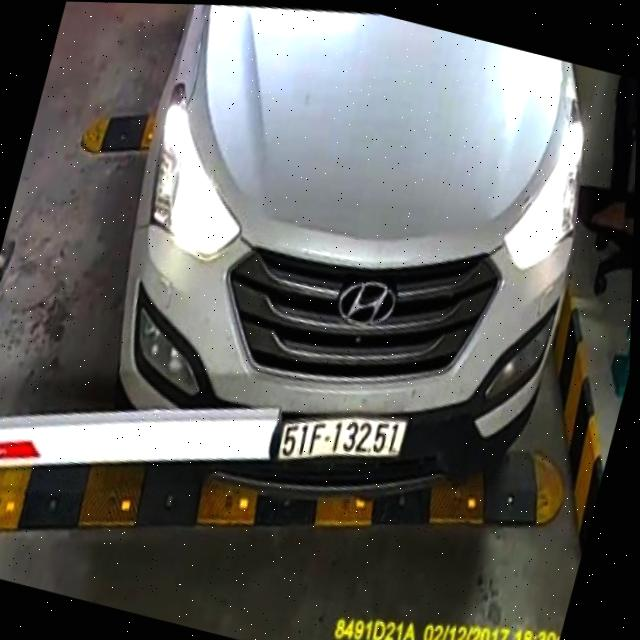car: (56, 2, 628, 561)
plate: (268, 381, 412, 491)
